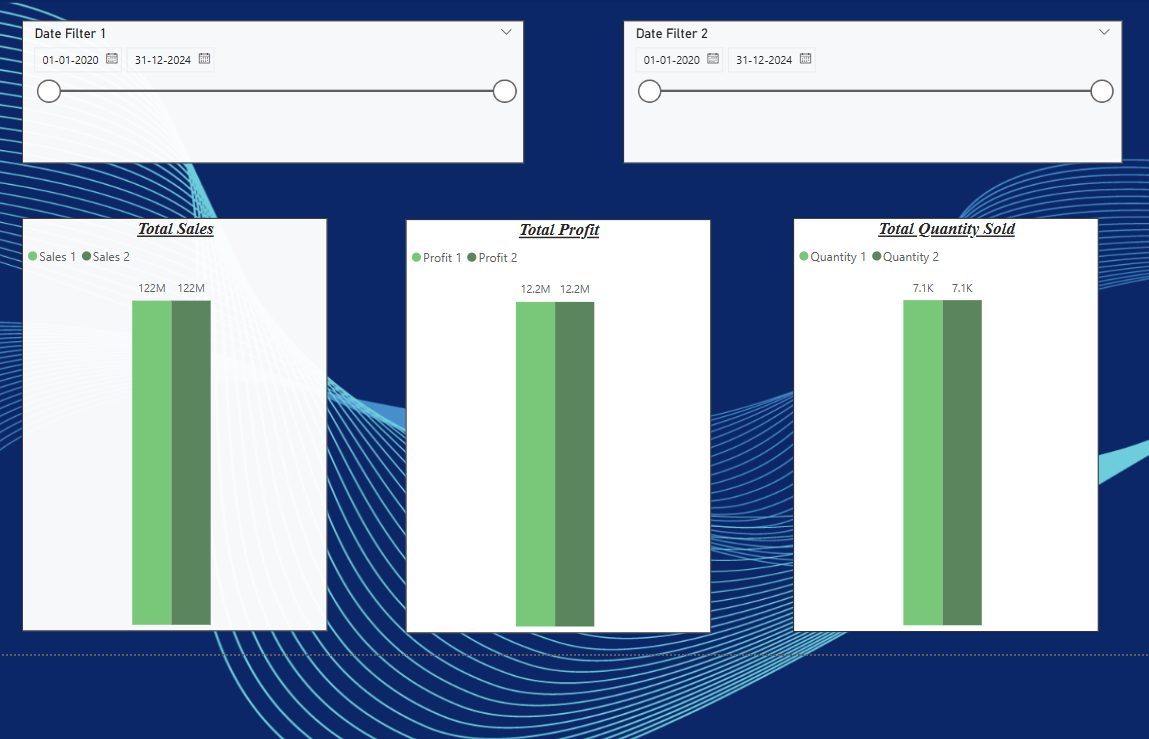

The dashboard page shown, as its layout file describes it:
{"tool":"powerbi","page":{"name":"Using Filter(Approach 1)","canvas":[1280,720],"ordinal":2},"visuals":[{"type":"slicer","fields":{"Values":["Date Table 1.Date"]},"box":[33,24.5,551.5,156.5],"z":0},{"type":"slicer","fields":{"Values":["Date Table 2.Date"]},"box":[693.3,24.5,547.8,156.5],"z":1000},{"type":"clusteredColumnChart","title":"Total Sales","fields":{"Y":["Sum(Fact table.Net Sales  )","Date Table 1.Sum of Net sales"]},"box":[33,242.1,335.1,453.7],"z":2000},{"type":"clusteredColumnChart","title":"Total Profit","fields":{"Y":["Sum(Fact table.Profit)","Measure Table.Total Profit"]},"box":[454.2,242.9,334.8,454.2],"z":3000},{"type":"clusteredColumnChart","title":"Total Quantity Sold","fields":{"Y":["Sum(Fact table.Units Sold)","Measure Table.Total Quantity"]},"box":[879.6,241.5,334.8,454.2],"z":4000}]}

Visuals, with their boxes in screenshot pixels (x1, y1, x2, y2):
slicer - Date Table 1.Date: 15 17 521 160
slicer - Date Table 2.Date: 621 17 1124 160
"Total Sales" clusteredColumnChart: 15 216 323 633
"Total Profit" clusteredColumnChart: 402 217 709 634
"Total Quantity Sold" clusteredColumnChart: 792 216 1100 633
